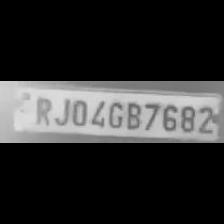0: (68, 96, 88, 126)
2: (196, 101, 218, 133)
4: (88, 96, 108, 128)
6: (158, 101, 178, 131)
7: (140, 99, 160, 131)
8: (176, 102, 196, 132)
B: (122, 98, 142, 130)
G: (106, 98, 124, 130)
J: (52, 94, 68, 125)
R: (29, 94, 52, 126)
